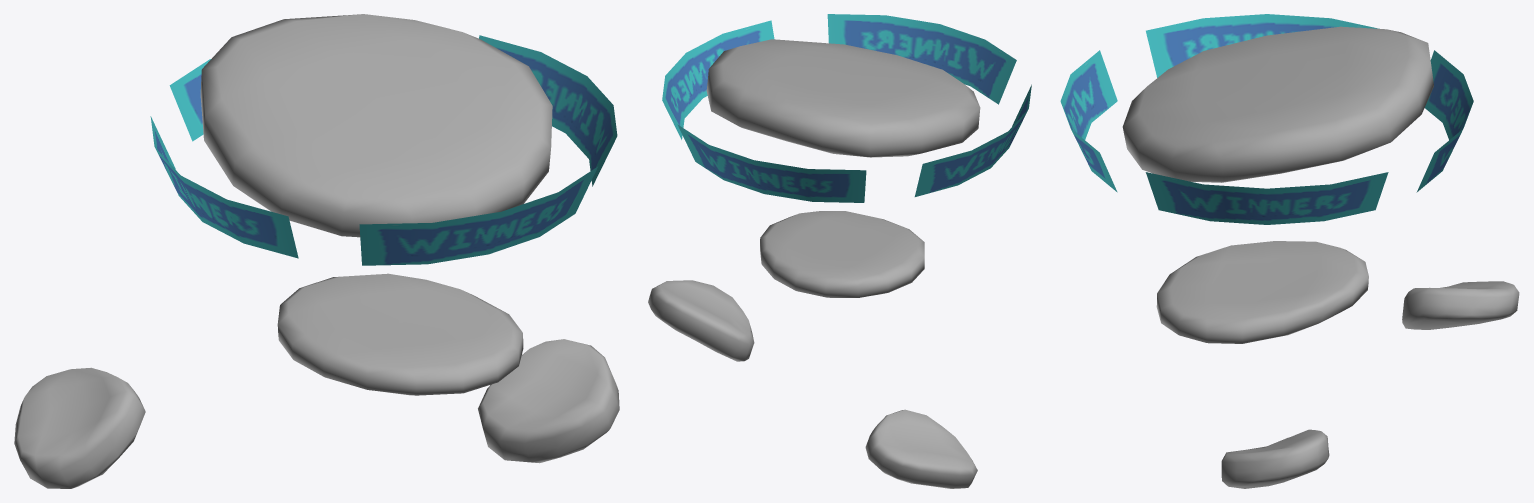
The model's file is SM_Platforme_001.fbx.
The picture shows the model from 3 angles, left to right: view 1: azimuth 30°, elevation 25°; view 2: azimuth 150°, elevation 25°; view 3: azimuth 270°, elevation 25°; orthographic projection. The views are drawn at different scales.
Parts seen in each view (by area): view 1: pCylinder2; view 2: pCylinder2; view 3: pCylinder2.
Part boxes in pixels (x1,y1,x2,y2): pCylinder2: [14, 14, 619, 488]; pCylinder2: [648, 14, 1031, 488]; pCylinder2: [1060, 14, 1519, 488].
Bounding box in the file's own units: 95.52 × 76.76 × 86.82.
2 materials, 1 textured.
